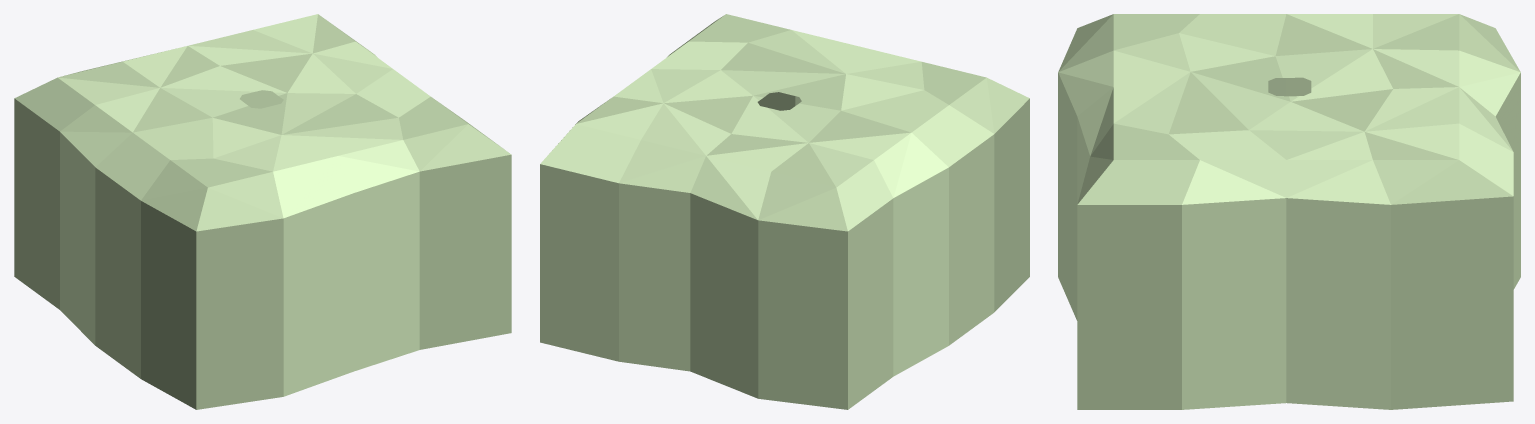
The model's file is Bunker1.fbx.
The picture shows the model from 3 angles, left to right: view 1: azimuth 30°, elevation 25°; view 2: azimuth 150°, elevation 25°; view 3: azimuth 270°, elevation 25°; orthographic projection. The views are drawn at different scales.
Visible parts, largest first — view 1: Bunker1; view 2: Bunker1; view 3: Bunker1.
Boxes of the visible parts, bbox=[...] form: Bunker1: bbox=[14, 14, 511, 409]; Bunker1: bbox=[540, 14, 1029, 409]; Bunker1: bbox=[1058, 14, 1520, 409].
Size of the model in its own units: 62.42 by 37.8 by 66.93.
